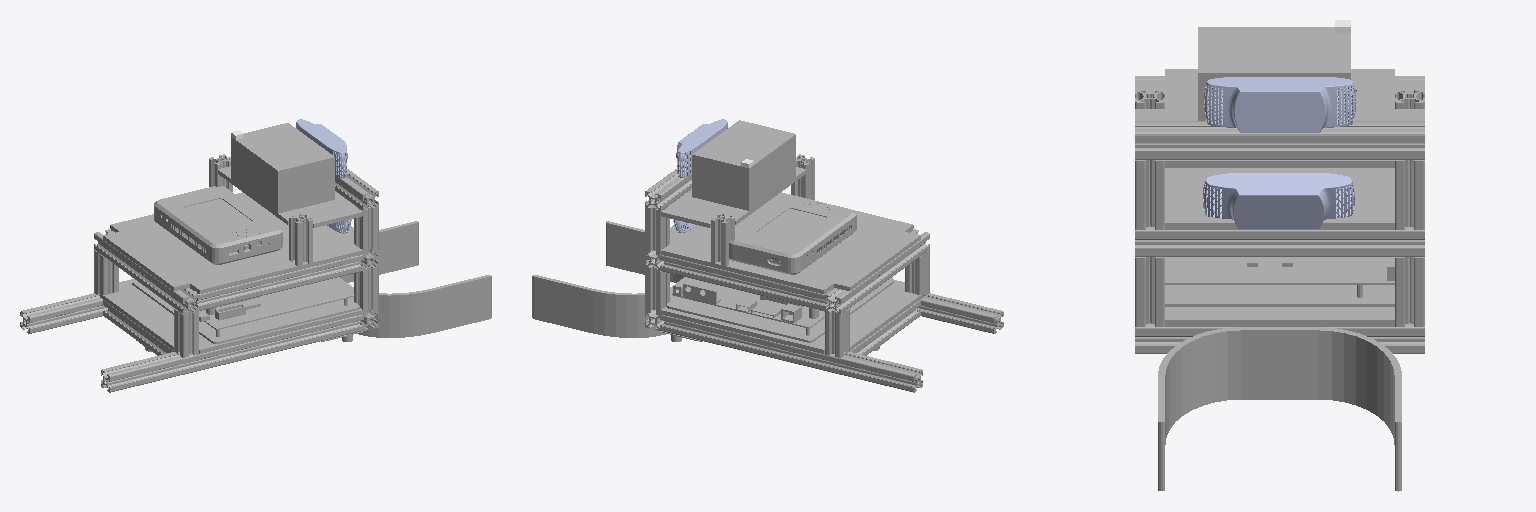
robot.urdf — model20:
<?xml version="1.0" encoding="utf-8"?>
<!-- This URDF was automatically created by SolidWorks to URDF Exporter! Originally created by [author] ([email redacted]) 
     Commit Version: 1.5.1-0-g916b5db  Build Version: 1.5.7152.31018
     For more information, please see http://wiki.ros.org/sw_urdf_exporter -->
<robot
  name="model20">
  <link
    name="base_link">
    <inertial>
      <origin
        xyz="-0.092324209156769 0.077440502793047 0.0427607357366362"
        rpy="0 0 0" />
      <mass
        value="3.2125402349035" />
      <inertia
        ixx="0.00580133003669007"
        ixy="1.93643410745575E-06"
        ixz="4.08904785209622E-07"
        iyy="0.00721904461730866"
        iyz="3.86677335720294E-07"
        izz="0.0125108174018615" />
    </inertial>
    <visual>
      <origin
        xyz="0 0 0"
        rpy="0 0 0" />
      <geometry>
        <mesh
          filename="package://model20/meshes/base_link.STL" />
      </geometry>
      <material
        name="">
        <color
          rgba="0.752941176470588 0.752941176470588 0.752941176470588 1" />
      </material>
    </visual>
    <collision>
      <origin
        xyz="0 0 0"
        rpy="0 0 0" />
      <geometry>
        <mesh
          filename="package://model20/meshes/base_link.STL" />
      </geometry>
    </collision>
  </link>
  <link
    name="left_front_wheel_suspension">
    <inertial>
      <origin
        xyz="-0.00786753377996494 -0.0155948984609842 0.0232556468762561"
        rpy="0 0 0" />
      <mass
        value="0.0651133753252895" />
      <inertia
        ixx="1.48802654908116E-05"
        ixy="1.64845451975805E-08"
        ixz="-1.56420031463122E-07"
        iyy="1.75245555055195E-05"
        iyz="-2.96403540336096E-09"
        izz="8.01010024686586E-06" />
    </inertial>
    <visual>
      <origin
        xyz="0 0 0"
        rpy="0 0 0" />
      <geometry>
        <mesh
          filename="package://model20/meshes/left_front_wheel_suspension.STL" />
      </geometry>
      <material
        name="">
        <color
          rgba="0.752941176470588 0.752941176470588 0.752941176470588 1" />
      </material>
    </visual>
    <collision>
      <origin
        xyz="0 0 0"
        rpy="0 0 0" />
      <geometry>
        <mesh
          filename="package://model20/meshes/left_front_wheel_suspension.STL" />
      </geometry>
    </collision>
  </link>
  <joint
    name="left_front_wheel_suspension_joint"
    type="prismatic">
    <origin
      xyz="-0.019998715602551 0.155491237481961 -0.0309978167969167"
      rpy="1.5707963267949 0 -1.5707963267949" />
    <parent
      link="base_link" />
    <child
      link="left_front_wheel_suspension" />
    <axis
      xyz="0 1 0" />
    <limit
      lower="0"
      upper="0"
      effort="0"
      velocity="0" />
  </joint>
  <link
    name="left_front_wheel">
    <inertial>
      <origin
        xyz="0.0158399891826273 -4.59981459866032E-09 7.99690621500204E-08"
        rpy="0 0 0" />
      <mass
        value="0.22822169800504" />
      <inertia
        ixx="0.000789211576324215"
        ixy="-1.09995507949643E-10"
        ixz="1.91230261060051E-09"
        iyy="0.000410429434291453"
        iyz="-5.55672248123661E-16"
        izz="0.000410429434301075" />
    </inertial>
    <visual>
      <origin
        xyz="0 0 0"
        rpy="0 0 0" />
      <geometry>
        <mesh
          filename="package://model20/meshes/left_front_wheel.STL" />
      </geometry>
      <material
        name="">
        <color
          rgba="1 1 1 1" />
      </material>
    </visual>
    <collision>
      <origin
        xyz="0 0 0"
        rpy="0 0 0" />
      <geometry>
        <mesh
          filename="package://model20/meshes/left_front_wheel.STL" />
      </geometry>
    </collision>
  </link>
  <joint
    name="left_front_wheel_joint"
    type="continuous">
    <origin
      xyz="-0.0197601403859578 -0.0217865728752538 0.00999990007507129"
      rpy="3.08413603591628 0 3.14159265358979" />
    <parent
      link="left_front_wheel_suspension" />
    <child
      link="left_front_wheel" />
    <axis
      xyz="0.999999999987214 0 0" />
    <limit
      effort="3.1"
      velocity="7" />
  </joint>
  <link
    name="right_front_wheel_suspension">
    <inertial>
      <origin
        xyz="-0.00415434378457435 -0.0156302499401892 0.0232556866612721"
        rpy="0 0 0" />
      <mass
        value="0.0651133753251555" />
      <inertia
        ixx="1.48802639086072E-05"
        ixy="1.64845302056301E-08"
        ixz="1.56454773175217E-07"
        iyy="1.75245555054544E-05"
        iyz="2.96411876510212E-09"
        izz="8.01010182899685E-06" />
    </inertial>
    <visual>
      <origin
        xyz="0 0 0"
        rpy="0 0 0" />
      <geometry>
        <mesh
          filename="package://model20/meshes/right_front_wheel_suspension.STL" />
      </geometry>
      <material
        name="">
        <color
          rgba="0.752941176470588 0.752941176470588 0.752941176470588 1" />
      </material>
    </visual>
    <collision>
      <origin
        xyz="0 0 0"
        rpy="0 0 0" />
      <geometry>
        <mesh
          filename="package://model20/meshes/right_front_wheel_suspension.STL" />
      </geometry>
    </collision>
  </link>
  <joint
    name="right_front_wheel_suspension_joint"
    type="prismatic">
    <origin
      xyz="-0.019998685205965 -0.0145086967784139 -0.0309978167969166"
      rpy="1.5707963267949 0 -1.5707963267949" />
    <parent
      link="base_link" />
    <child
      link="right_front_wheel_suspension" />
    <axis
      xyz="0 1 0" />
    <limit
      lower="0"
      upper="0"
      effort="0"
      velocity="0" />
  </joint>
  <link
    name="right_front_wheel">
    <inertial>
      <origin
        xyz="0.015839199018542 1.11022302462516E-16 0"
        rpy="0 0 0" />
      <mass
        value="0.22822169800504" />
      <inertia
        ixx="0.000789211576333899"
        ixy="-3.40301779837873E-20"
        ixz="5.22139474396739E-21"
        iyy="0.000410429434291421"
        iyz="-3.32036915323686E-19"
        izz="0.00041042943429142" />
    </inertial>
    <visual>
      <origin
        xyz="0 0 0"
        rpy="0 0 0" />
      <geometry>
        <mesh
          filename="package://model20/meshes/right_front_wheel.STL" />
      </geometry>
      <material
        name="">
        <color
          rgba="1 1 1 1" />
      </material>
    </visual>
    <collision>
      <origin
        xyz="0 0 0"
        rpy="0 0 0" />
      <geometry>
        <mesh
          filename="package://model20/meshes/right_front_wheel.STL" />
      </geometry>
    </collision>
  </link>
  <joint
    name="right_front_wheel_joint"
    type="continuous">
    <origin
      xyz="0.00773912001850283 -0.0217849999999998 0.0100000000000001"
      rpy="0.162600051915931 0 0" />
    <parent
      link="right_front_wheel_suspension" />
    <child
      link="right_front_wheel" />
    <axis
      xyz="1 0 0" />
    <limit
      effort="3.1"
      velocity="7" />
  </joint>
  <link
    name="camera">
    <inertial>
      <origin
        xyz="0.00574434029795973 -0.000740342879783765 -0.0662231976935658"
        rpy="0 0 0" />
      <mass
        value="0.0436119957238953" />
      <inertia
        ixx="2.34834564028883E-05"
        ixy="-1.2127803698202E-09"
        ixz="-3.47379224009179E-07"
        iyy="4.2947905005604E-06"
        iyz="-5.91274656944154E-10"
        izz="2.2193065138918E-05" />
    </inertial>
    <visual>
      <origin
        xyz="0 0 0"
        rpy="0 0 0" />
      <geometry>
        <mesh
          filename="package://model20/meshes/camera.STL" />
      </geometry>
      <material
        name="">
        <color
          rgba="0.792156862745098 0.819607843137255 0.933333333333333 1" />
      </material>
    </visual>
    <collision>
      <origin
        xyz="0 0 0"
        rpy="0 0 0" />
      <geometry>
        <mesh
          filename="package://model20/meshes/camera.STL" />
      </geometry>
    </collision>
  </link>
  <joint
    name="camera"
    type="fixed">
    <origin
      xyz="-0.0134999999999999 0.0764920649895213 0.154987708684933"
      rpy="0 0 0" />
    <parent
      link="base_link" />
    <child
      link="camera" />
    <axis
      xyz="0 0 0" />
  </joint>
  <link
    name="camera2">
    <inertial>
      <origin
        xyz="-0.0221485658915229 0.000718215963980057 0.0651474645619419"
        rpy="0 0 0" />
      <mass
        value="0.0436119950287125" />
      <inertia
        ixx="2.34616976848218E-05"
        ixy="-7.54185132535708E-10"
        ixz="3.85065873476792E-07"
        iyy="4.29479133591139E-06"
        iyz="-1.11912173840817E-09"
        izz="2.22148222430625E-05" />
    </inertial>
    <visual>
      <origin
        xyz="0 0 0"
        rpy="0 0 0" />
      <geometry>
        <mesh
          filename="package://model20/meshes/camera2.STL" />
      </geometry>
      <material
        name="">
        <color
          rgba="0.792156862745098 0.819607843137255 0.933333333333333 1" />
      </material>
    </visual>
    <collision>
      <origin
        xyz="0 0 0"
        rpy="0 0 0" />
      <geometry>
        <mesh
          filename="package://model20/meshes/camera2.STL" />
      </geometry>
    </collision>
  </link>
  <joint
    name="camera2"
    type="fixed">
    <origin
      xyz="-0.00852200766865335 0.0757627858576307 0.0876258392043087"
      rpy="0 0.261799387799143 0" />
    <parent
      link="base_link" />
    <child
      link="camera2" />
    <axis
      xyz="0 0 0" />
  </joint>
  <link
    name="lidar">
    <inertial>
      <origin
        xyz="-0.00868778989367747 -0.00242014065569162 -0.0287648859064542"
        rpy="0 0 0" />
      <mass
        value="0.0730845706123877" />
      <inertia
        ixx="1.95808756096351E-05"
        ixy="-1.03933750344926E-07"
        ixz="4.28391241039136E-07"
        iyy="2.41250086763081E-05"
        iyz="-9.42709906914268E-09"
        izz="4.1418452244397E-05" />
    </inertial>
    <visual>
      <origin
        xyz="0 0 0"
        rpy="0 0 0" />
      <geometry>
        <mesh
          filename="package://model20/meshes/lidar.STL" />
      </geometry>
      <material
        name="">
        <color
          rgba="0.792156862745098 0.819607843137255 0.933333333333333 1" />
      </material>
    </visual>
    <collision>
      <origin
        xyz="0 0 0"
        rpy="0 0 0" />
      <geometry>
        <mesh
          filename="package://model20/meshes/lidar.STL" />
      </geometry>
    </collision>
  </link>
  <joint
    name="lidar_joint"
    type="fixed">
    <origin
      xyz="-0.0642592027859291 0.0687050562666345 0.223497816796912"
      rpy="0 0 0" />
    <parent
      link="base_link" />
    <child
      link="lidar" />
    <axis
      xyz="0 0 0" />
  </joint>
  <link
    name="imu">
    <inertial>
      <origin
        xyz="0 1.38777878078145E-17 0.00250000000000002"
        rpy="0 0 0" />
      <mass
        value="0.000510000000000001" />
      <inertia
        ixx="5.31250000000002E-09"
        ixy="-7.37257477290141E-26"
        ixz="-1.56670636404651E-40"
        iyy="5.31250000000002E-09"
        iyz="-5.52943107967612E-26"
        izz="8.50000000000004E-09" />
    </inertial>
    <visual>
      <origin
        xyz="0 0 0"
        rpy="0 0 0" />
      <geometry>
        <mesh
          filename="package://model20/meshes/imu.STL" />
      </geometry>
      <material
        name="">
        <color
          rgba="1 1 1 1" />
      </material>
    </visual>
    <collision>
      <origin
        xyz="0 0 0"
        rpy="0 0 0" />
      <geometry>
        <mesh
          filename="package://model20/meshes/imu.STL" />
      </geometry>
    </collision>
  </link>
  <joint
    name="imu"
    type="fixed">
    <origin
      xyz="-0.0950000000000001 0.117752824450965 0.169997816796917"
      rpy="0 0 0" />
    <parent
      link="base_link" />
    <child
      link="imu" />
    <axis
      xyz="0 0 0" />
  </joint>
  <link
    name="rear_wheel">
    <inertial>
      <origin
        xyz="-1.38777878078145E-17 -0.0587398646659116 2.22044604925031E-16"
        rpy="0 0 0" />
      <mass
        value="0.350258660632925" />
      <inertia
        ixx="0.0001661084299666"
        ixy="1.57966005845945E-21"
        ixz="-9.68053563945766E-22"
        iyy="0.000114730603640893"
        iyz="3.12814718713275E-21"
        izz="0.0001661084299666" />
    </inertial>
    <visual>
      <origin
        xyz="0 0 0"
        rpy="0 0 0" />
      <geometry>
        <mesh
          filename="package://model20/meshes/rear_wheel.STL" />
      </geometry>
      <material
        name="">
        <color
          rgba="0.898039215686275 0.917647058823529 0.929411764705882 1" />
      </material>
    </visual>
    <collision>
      <origin
        xyz="0 0 0"
        rpy="0 0 0" />
      <geometry>
        <mesh
          filename="package://model20/meshes/rear_wheel.STL" />
      </geometry>
    </collision>
  </link>
  <joint
    name="rear_wheel"
    type="continuous">
    <origin
      xyz="-0.2255 0.0755075140386331 -0.0309978167969167"
      rpy="1.5707963267949 0 -1.5707963267949" />
    <parent
      link="base_link" />
    <child
      link="rear_wheel" />
    <axis
      xyz="0 1 0" />
  </joint>
</robot>

--- Render facts (derived) ---
The picture shows the robot from 3 angles, left to right: view 1: azimuth 30°, elevation 25°; view 2: azimuth 150°, elevation 25°; view 3: azimuth 270°, elevation 25°; orthographic projection.
Model model20 with 10 links and 9 joints (3 continuous, 2 prismatic, 4 fixed), rooted at base_link, posed every joint at zero.
Links seen in each view (by area): view 1: base_link, camera2; view 2: base_link, camera2; view 3: base_link, camera2, camera.
Link boxes in pixels (bbox=[...]): base_link: bbox=[20, 123, 491, 392]; camera2: bbox=[296, 119, 347, 177]; base_link: bbox=[532, 120, 1003, 392]; camera2: bbox=[676, 119, 727, 177]; base_link: bbox=[1135, 27, 1424, 491]; camera2: bbox=[1204, 77, 1355, 132]; camera: bbox=[1203, 173, 1354, 228].
Bounding box of the posed robot: 0.4775 × 0.19 × 0.225 m (x, y, z).
Meshes: 10 distinct files referenced, 4 mesh visuals loaded (4 binary STL); not drawn: 6 (reference not matched to a file when rendering).